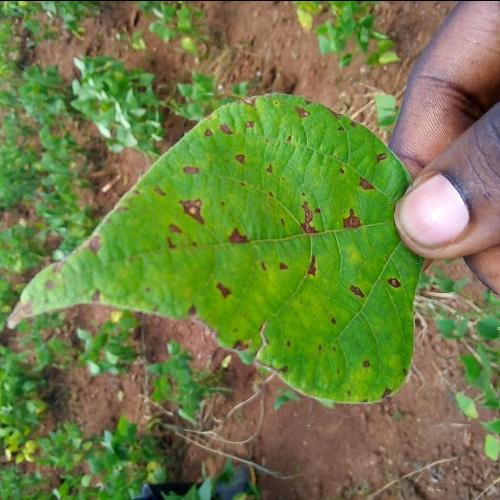mozaik: (64, 86, 420, 399)
